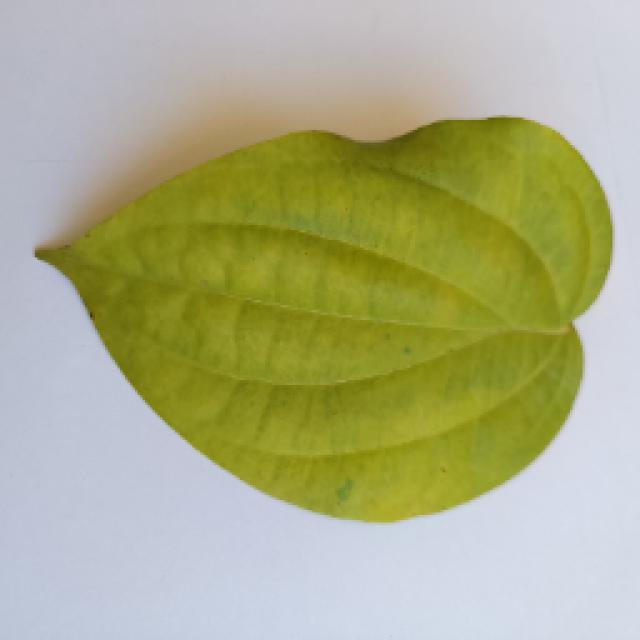slow-decline: (23, 113, 605, 525)
